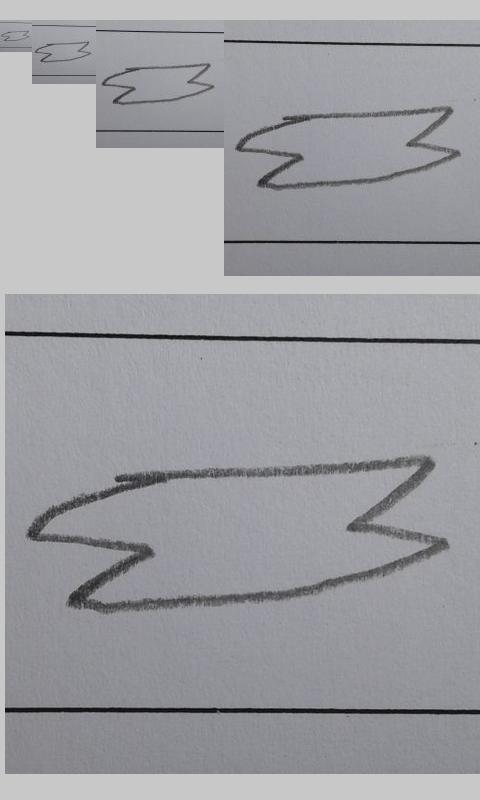edit_text: (26, 453, 448, 617), (234, 105, 462, 192), (101, 62, 216, 105), (35, 41, 91, 63), (1, 30, 29, 42)
